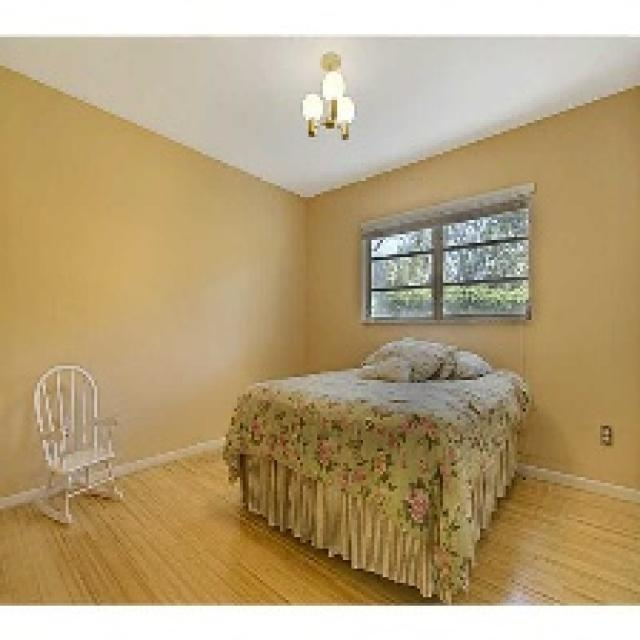Bed: (223, 360, 528, 603)
